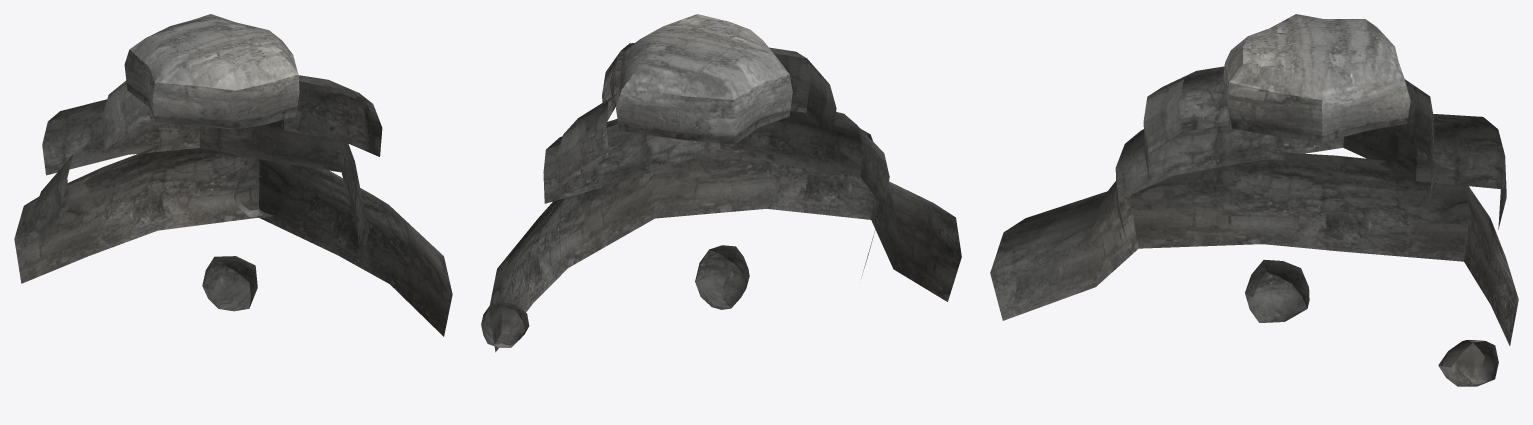
The model's file is rock_outcrop.glb.
The picture shows the model from 3 angles, left to right: view 1: azimuth 30°, elevation 25°; view 2: azimuth 150°, elevation 25°; view 3: azimuth 270°, elevation 25°; orthographic projection. The views are drawn at different scales.
Visible parts, largest first — view 1: root_mesh; view 2: root_mesh; view 3: root_mesh.
Part boxes in pixels (x1,y1,x2,y2): root_mesh: (14, 14, 452, 336); root_mesh: (481, 14, 961, 352); root_mesh: (990, 14, 1518, 386).
Bounding box in the file's own units: 0.8413 × 0.6517 × 1.07.
Materials: 1 (1 with a texture image).
